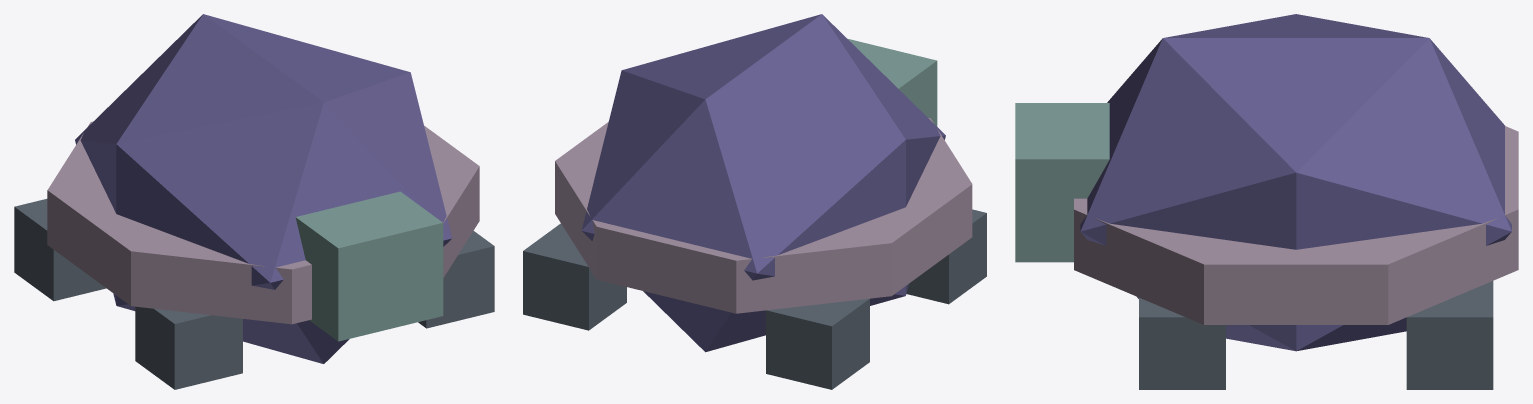
Rendered from shell.glb.
The picture shows the model from 3 angles, left to right: view 1: azimuth 30°, elevation 25°; view 2: azimuth 150°, elevation 25°; view 3: azimuth 270°, elevation 25°; orthographic projection. The views are drawn at different scales.
Visible parts, largest first — view 1: Dome, Rim, Head, Leg0, Leg2, Leg1; view 2: Dome, Rim, Leg2, Leg3, Leg0, Head; view 3: Dome, Rim, Head, Leg3, Leg1.
Boxes of the visible parts, box(x1,y1,x2,y2) form: Dome: box(75, 14, 452, 363); Rim: box(47, 121, 479, 324); Head: box(295, 191, 443, 341); Leg0: box(135, 306, 242, 389); Leg2: box(14, 199, 106, 301); Leg1: box(418, 231, 494, 328); Dome: box(581, 14, 945, 352); Rim: box(555, 118, 972, 313); Leg2: box(766, 298, 869, 389); Leg3: box(523, 223, 626, 330); Leg0: box(906, 209, 986, 304); Head: box(847, 38, 937, 126); Dome: box(1080, 14, 1511, 351); Rim: box(1074, 126, 1518, 324); Head: box(1015, 103, 1109, 262); Leg3: box(1406, 281, 1493, 389); Leg1: box(1139, 297, 1225, 389).
Size of the model in its own units: 0.6652 by 0.4772 by 0.7526.
